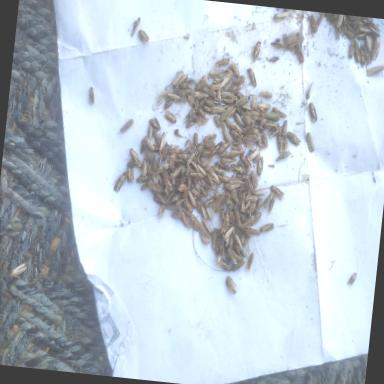pbw: (188, 160, 208, 178), (225, 276, 242, 296), (364, 62, 384, 79), (196, 226, 212, 246), (307, 100, 320, 124), (225, 248, 242, 266), (231, 110, 247, 129), (170, 162, 185, 182), (194, 180, 210, 198), (220, 105, 236, 123), (128, 148, 144, 166), (125, 162, 137, 186), (196, 202, 210, 222), (162, 151, 176, 171), (270, 186, 287, 202), (239, 155, 255, 172), (305, 132, 317, 154), (222, 182, 242, 195), (289, 34, 305, 50), (286, 131, 302, 147), (240, 214, 255, 231), (212, 192, 226, 210), (228, 72, 246, 86), (246, 68, 258, 88), (194, 76, 209, 92), (308, 14, 320, 34), (232, 232, 244, 252), (294, 44, 306, 64), (220, 122, 232, 142), (120, 118, 134, 134), (217, 140, 231, 156), (161, 176, 175, 192), (162, 110, 178, 124), (148, 116, 162, 132), (200, 146, 216, 160), (214, 56, 230, 70), (208, 168, 222, 184), (266, 198, 276, 220), (249, 170, 260, 190), (252, 40, 262, 62), (158, 88, 176, 100), (187, 190, 199, 208), (261, 192, 273, 210), (132, 17, 142, 38), (268, 126, 282, 141), (260, 129, 270, 150), (231, 257, 244, 273), (186, 94, 199, 110), (276, 150, 292, 163), (271, 107, 288, 119), (226, 82, 243, 94), (222, 226, 234, 243), (216, 237, 226, 257), (232, 210, 243, 228), (222, 212, 231, 234), (235, 94, 249, 108), (136, 172, 152, 184), (250, 212, 262, 228), (229, 62, 241, 78), (259, 222, 275, 234), (182, 197, 194, 213), (152, 194, 168, 206), (190, 213, 200, 232), (193, 145, 203, 164), (370, 42, 380, 61), (202, 195, 216, 208), (218, 258, 231, 272), (256, 102, 271, 114), (144, 137, 156, 152), (364, 34, 374, 52), (184, 109, 196, 124), (256, 155, 264, 177), (245, 226, 261, 237), (252, 186, 268, 197), (174, 69, 184, 86), (249, 148, 261, 162), (305, 80, 313, 101), (228, 191, 240, 205), (202, 132, 216, 144), (275, 134, 284, 152), (258, 89, 274, 99), (141, 158, 149, 178), (354, 44, 362, 64), (246, 252, 254, 272), (210, 166, 226, 176), (88, 86, 96, 106), (138, 30, 150, 43), (228, 129, 242, 140), (174, 129, 188, 140), (204, 207, 215, 221), (246, 110, 260, 121), (264, 121, 281, 130), (210, 231, 218, 250), (230, 164, 245, 174), (175, 196, 187, 208), (220, 156, 236, 165), (157, 204, 166, 220), (244, 194, 260, 203), (168, 147, 182, 157), (246, 202, 256, 216), (206, 172, 216, 186), (229, 180, 243, 190), (208, 82, 222, 92), (156, 152, 164, 169), (159, 132, 166, 151), (281, 121, 288, 140), (192, 132, 200, 148), (146, 126, 154, 142), (189, 172, 205, 180), (273, 12, 289, 20), (230, 150, 246, 158), (194, 92, 210, 100), (348, 42, 355, 60), (164, 99, 174, 111), (335, 14, 343, 29), (214, 115, 222, 130), (140, 182, 152, 192), (186, 117, 196, 129), (168, 93, 183, 101), (208, 70, 223, 78), (255, 197, 262, 214), (214, 90, 222, 104), (250, 96, 258, 110), (170, 211, 184, 219), (165, 203, 179, 211), (196, 110, 207, 120), (167, 144, 180, 152), (351, 20, 364, 28), (183, 146, 194, 155), (174, 153, 188, 160), (152, 153, 157, 170), (369, 32, 381, 39), (178, 184, 188, 192), (197, 113, 202, 127)
